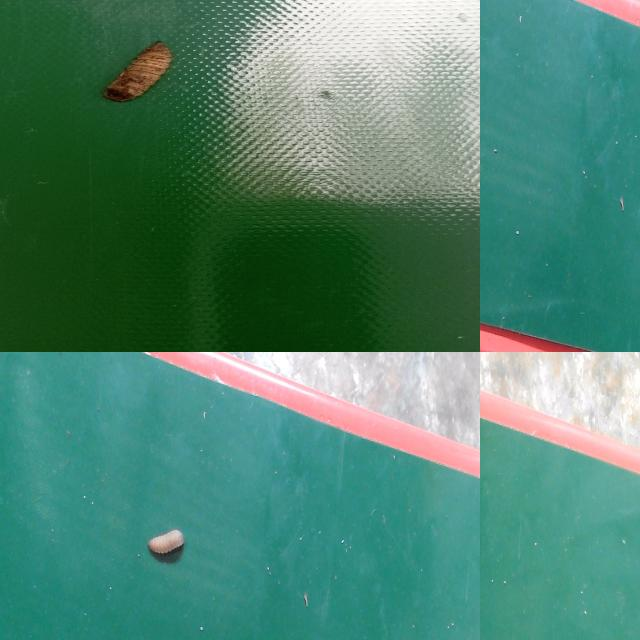Maggot: (103, 43, 174, 104), (147, 529, 185, 564)
